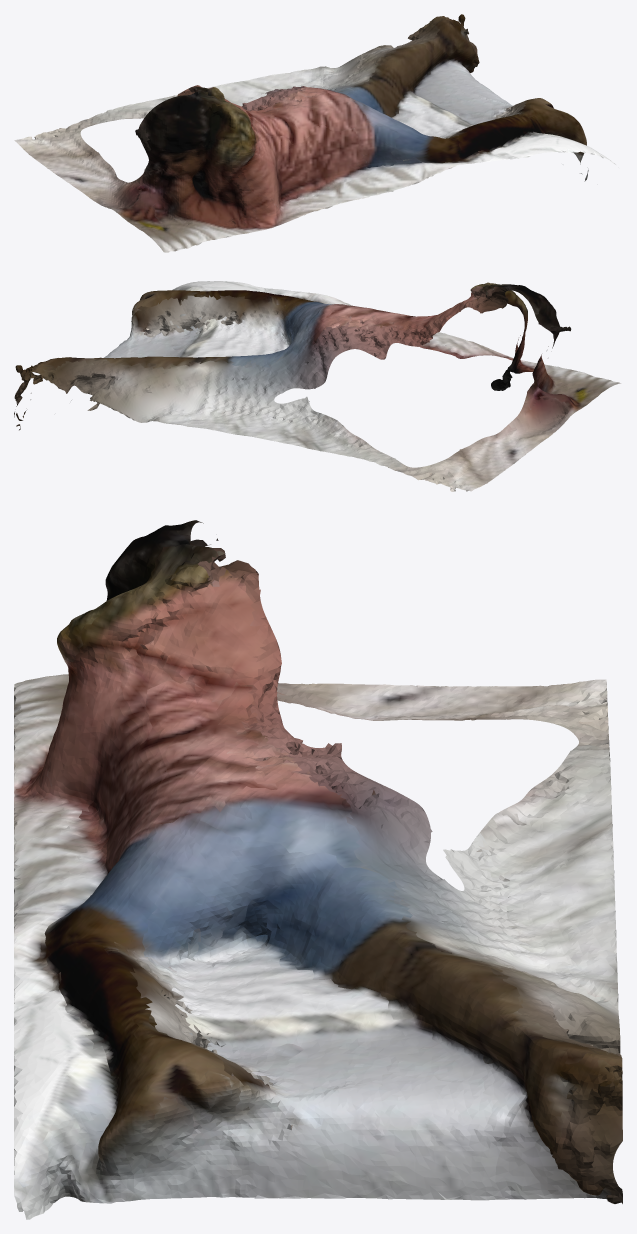
The picture shows the model from 3 angles, top to bottom: view 1: azimuth 30°, elevation 25°; view 2: azimuth 150°, elevation 25°; view 3: azimuth 270°, elevation 25°; orthographic projection. The views are drawn at different scales.
Size of the model in its own units: 1.6 by 0.5214 by 0.9296.
1 material, 1 textured.
